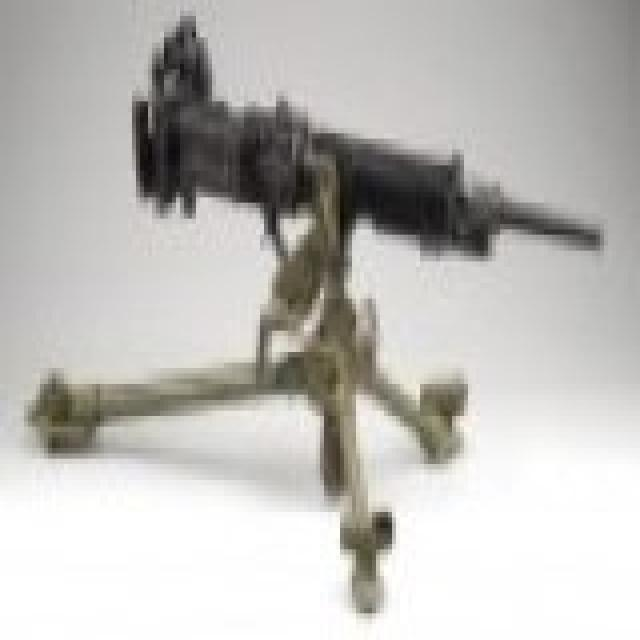Gun: (88, 15, 617, 318)
